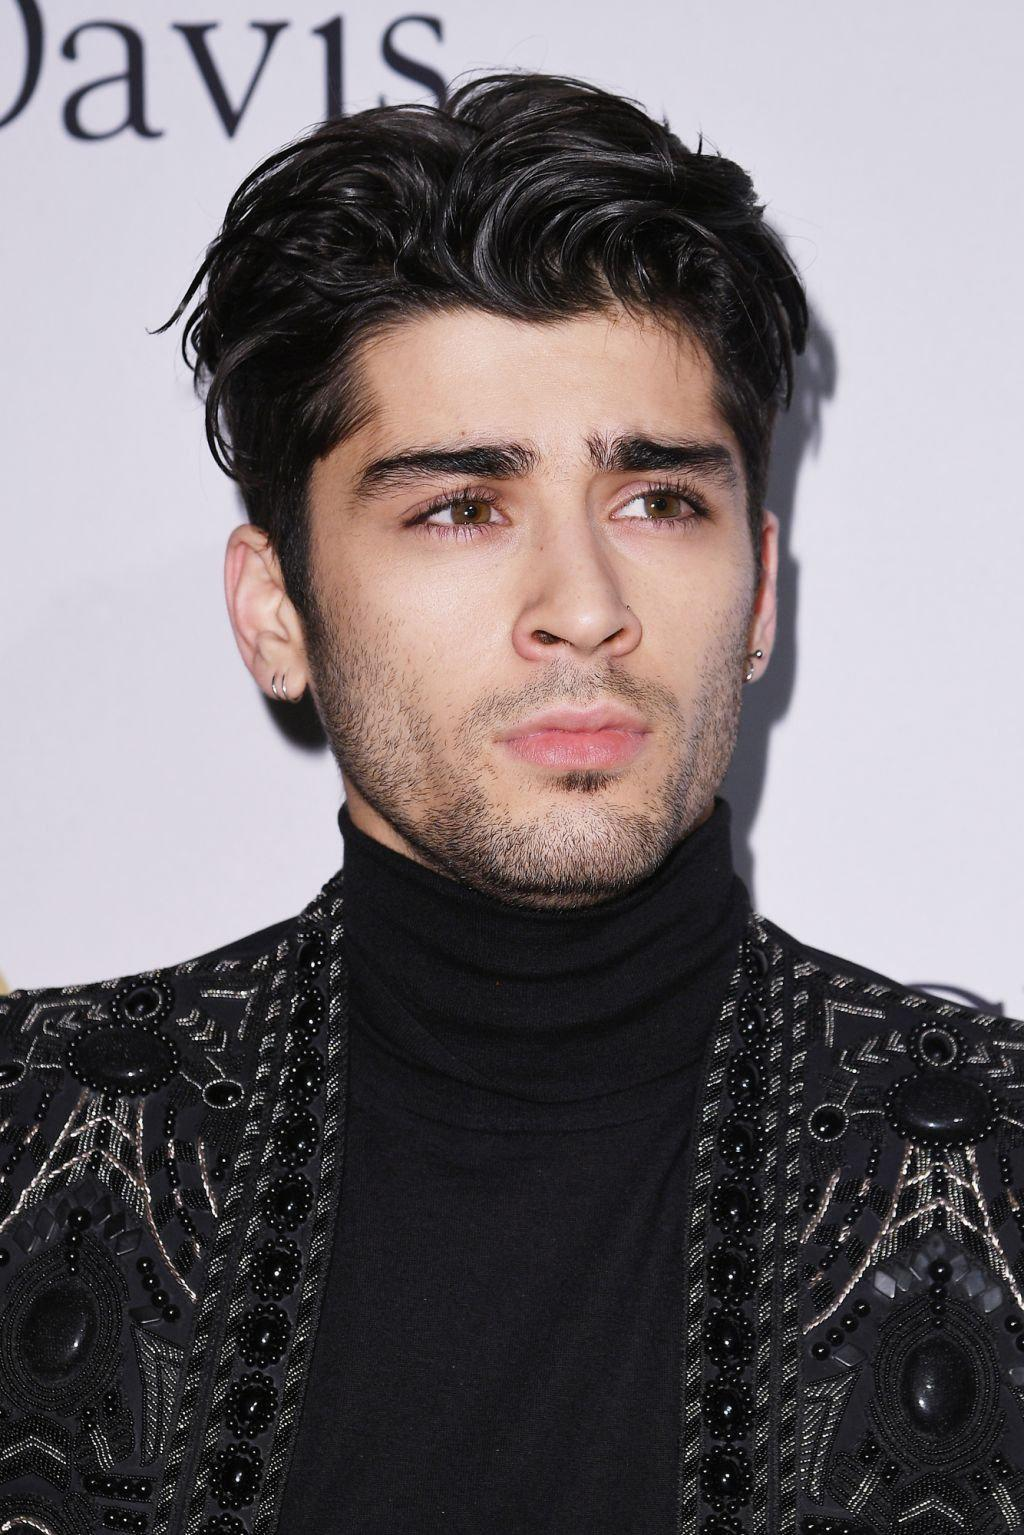Sober: (347, 323, 733, 855)
